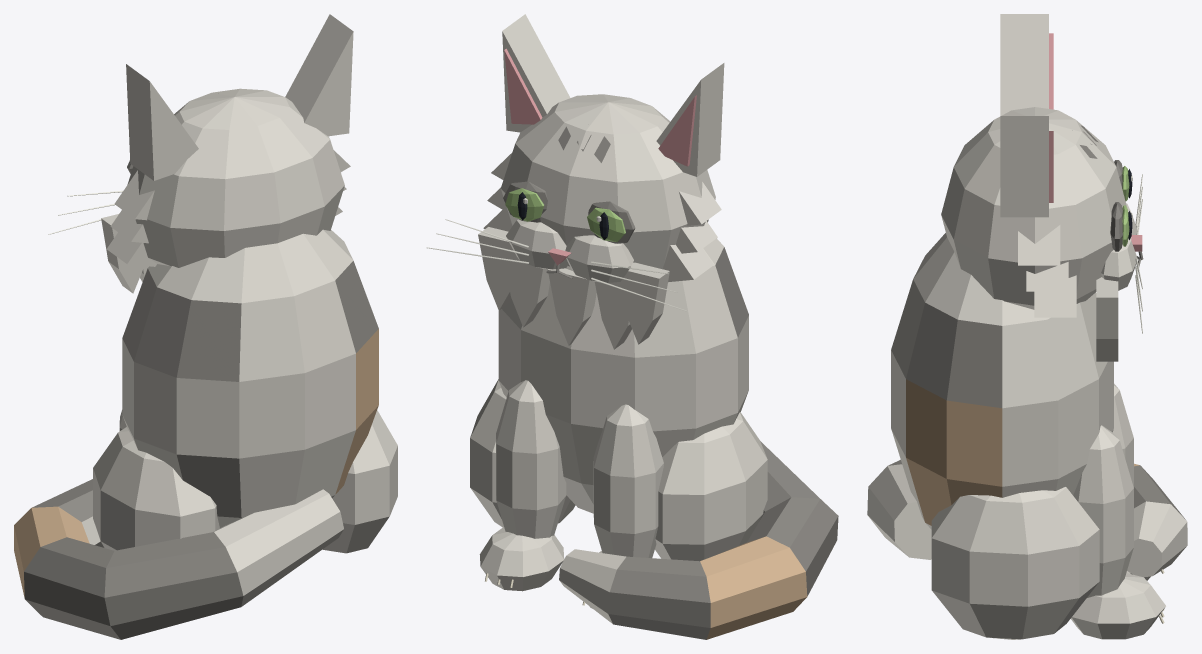
The model's file is mildred.glb.
3 views of the same model, side by side, from view 1: azimuth 30°, elevation 25°; view 2: azimuth 150°, elevation 25°; view 3: azimuth 270°, elevation 25° (orthographic). The views are drawn at different scales.
Parts seen in each view (by area): view 1: mildred; view 2: mildred; view 3: mildred.
Boxes of the visible parts, x1,y1,x2,y2 form: mildred: (14,14,397,639); mildred: (426,14,838,639); mildred: (867,14,1187,639).
Size of the model in its own units: 0.9451 by 1.4 by 0.7426.
